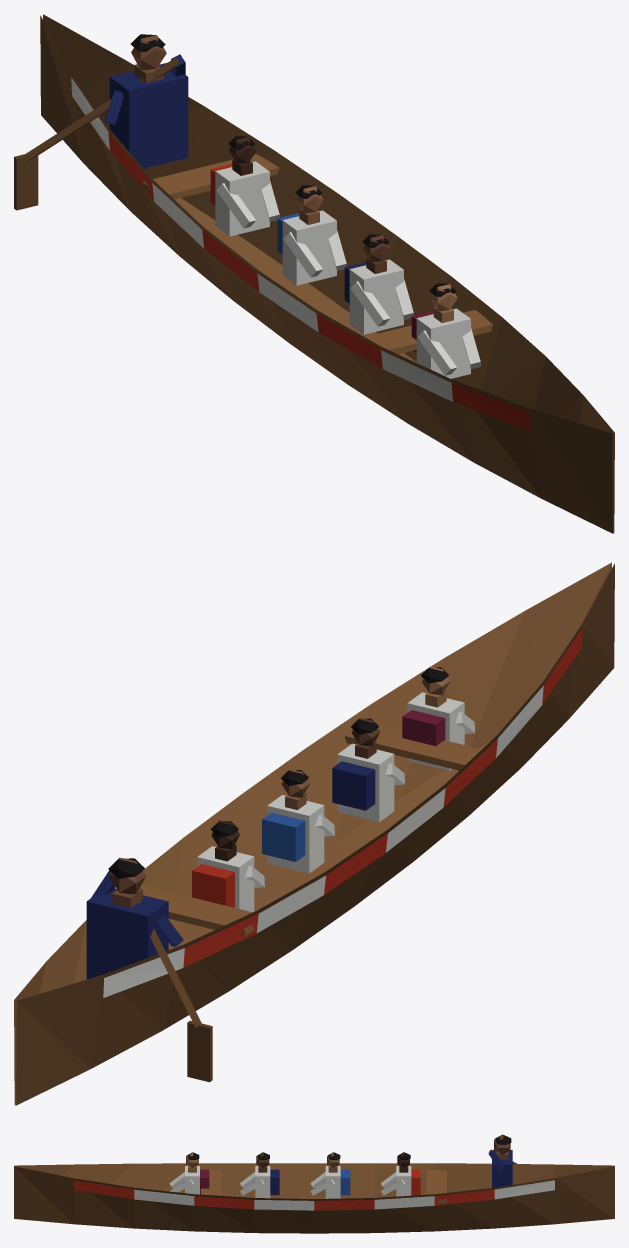
Rendered from prop_canoe-school.glb.
3 views of the same model, one above another, from view 1: azimuth 30°, elevation 25°; view 2: azimuth 150°, elevation 25°; view 3: azimuth 270°, elevation 25° (orthographic). The views are drawn at different scales.
Visible parts, largest first — view 1: body; view 2: body; view 3: body.
Part boxes in pixels (left/top/right/bottom): body: left=14, top=14, right=614, bottom=533; body: left=14, top=562, right=614, bottom=1105; body: left=14, top=1134, right=614, bottom=1233.
Size of the model in its own units: 1.14 by 1.03 by 6.4.
